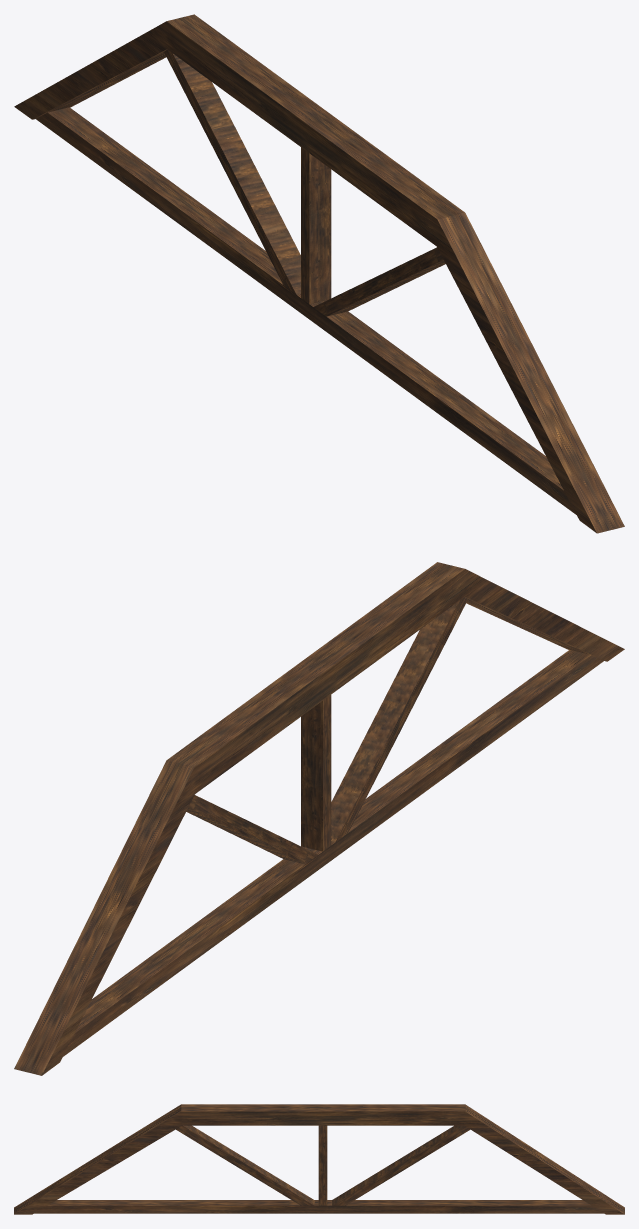
The model's file is Roof beams.FBX.
3 views of the same model, one above another, from view 1: azimuth 30°, elevation 25°; view 2: azimuth 150°, elevation 25°; view 3: azimuth 270°, elevation 25° (orthographic). The views are drawn at different scales.
Parts seen in each view (by area): view 1: Roof beams; view 2: Roof beams; view 3: Roof beams.
Boxes of the visible parts, x1,y1,x2,y2 form: Roof beams: (14, 14, 624, 533); Roof beams: (14, 562, 624, 1075); Roof beams: (14, 1104, 624, 1214).
Bounding box in the file's own units: 20.33 × 137 × 735.
1 material, 1 textured.
